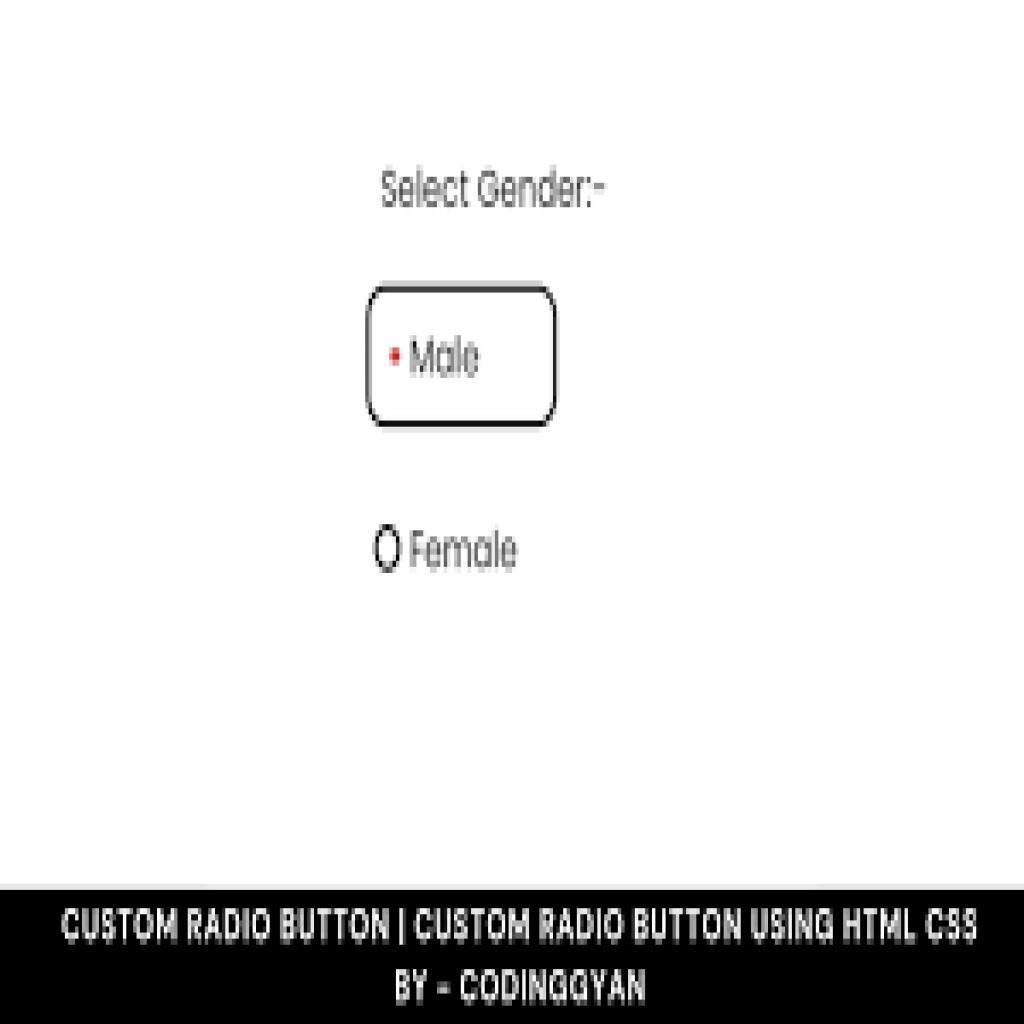input: (367, 287, 552, 422)
radio: (372, 514, 408, 586)
